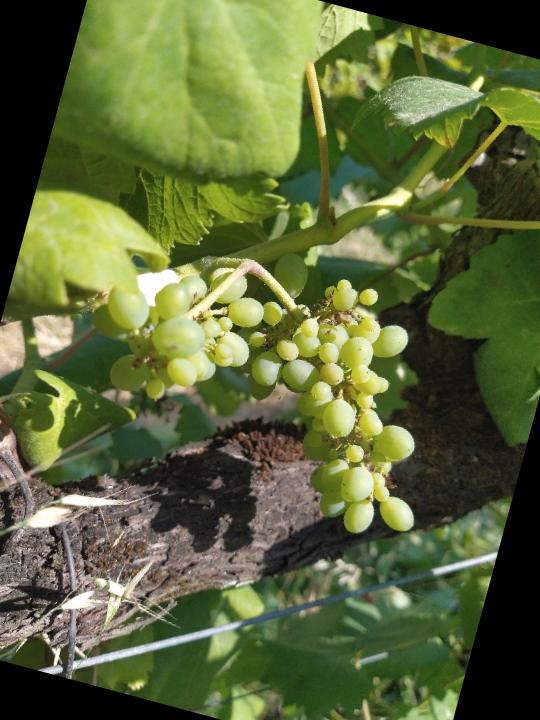grape: (50, 204, 479, 552)
